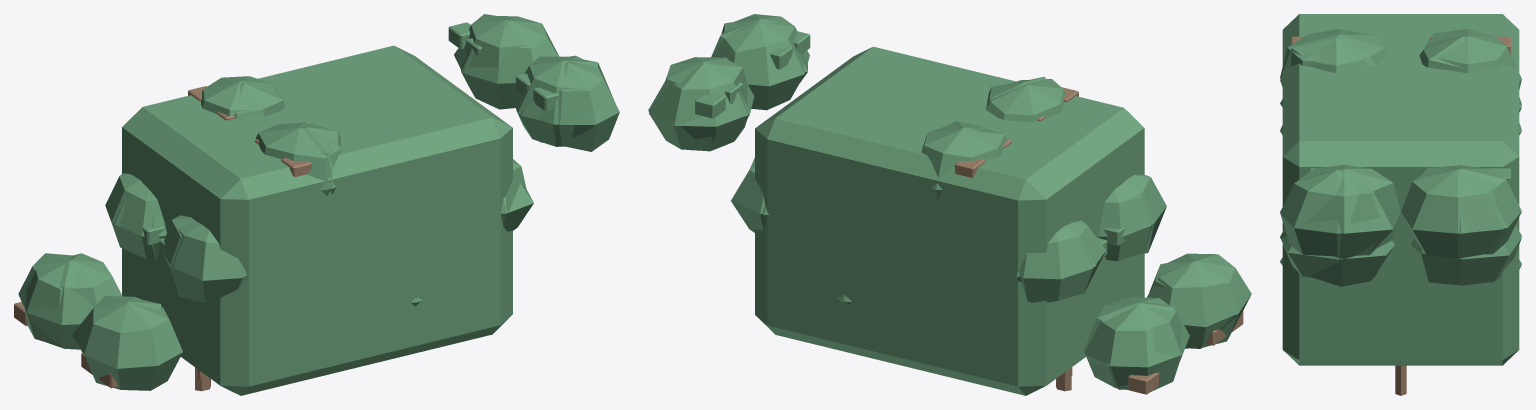
File: b08_clipped_yew_hedge.glb
3 renders of one model, left to right at view 1: azimuth 30°, elevation 25°; view 2: azimuth 150°, elevation 25°; view 3: azimuth 270°, elevation 25°, orthographic. The views are drawn at different scales.
Parts seen in each view (by area): view 1: b08_clipped_yew_hedge; view 2: b08_clipped_yew_hedge; view 3: b08_clipped_yew_hedge.
Part boxes in pixels (x1,y1,x2,y2): b08_clipped_yew_hedge: (14, 14, 619, 395); b08_clipped_yew_hedge: (648, 14, 1251, 395); b08_clipped_yew_hedge: (1280, 14, 1521, 395).
Size of the model in its own units: 2.87 by 1.39 by 1.11.
